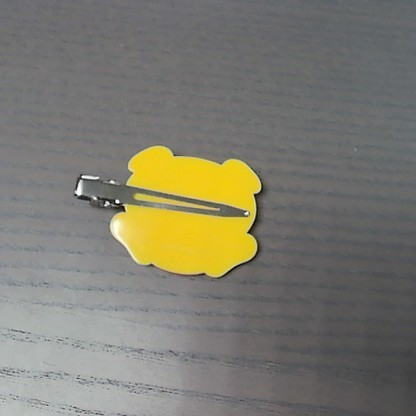dogclip: (71, 136, 264, 277)
